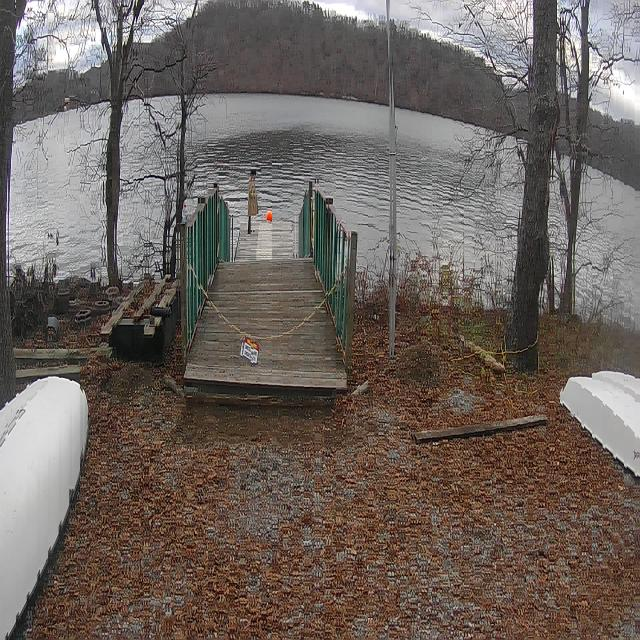Buoy: (265, 207, 275, 227)
